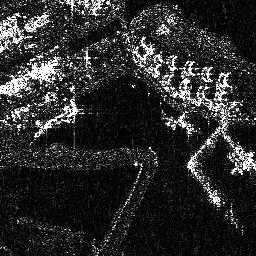ship: (34, 106, 82, 137)
